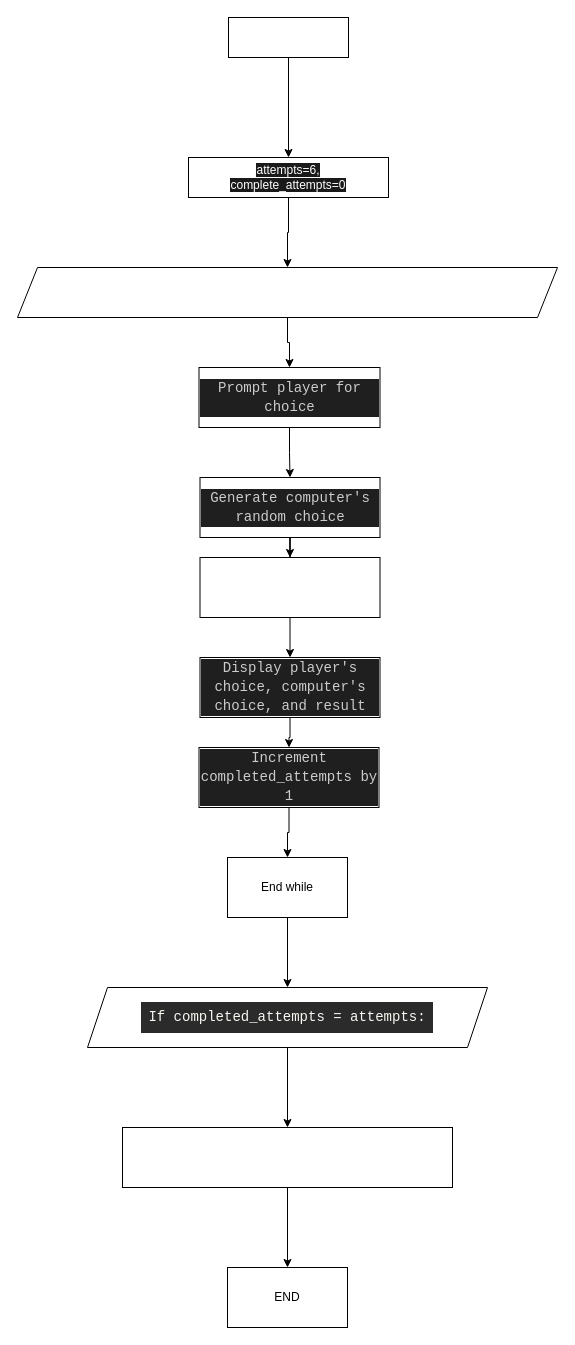
Image size: 575x1345. Some labels were removed from this diagram. Each missing label, with the centre of its shape:
Compare player's choice and computer's choice: the point at 289,587
Print "Game over! You have used all your attempts.": the point at 287,1157
Start: the point at 288,37
while(complete_attempts < attempts ) AND (game not ended) :: the point at 287,292
